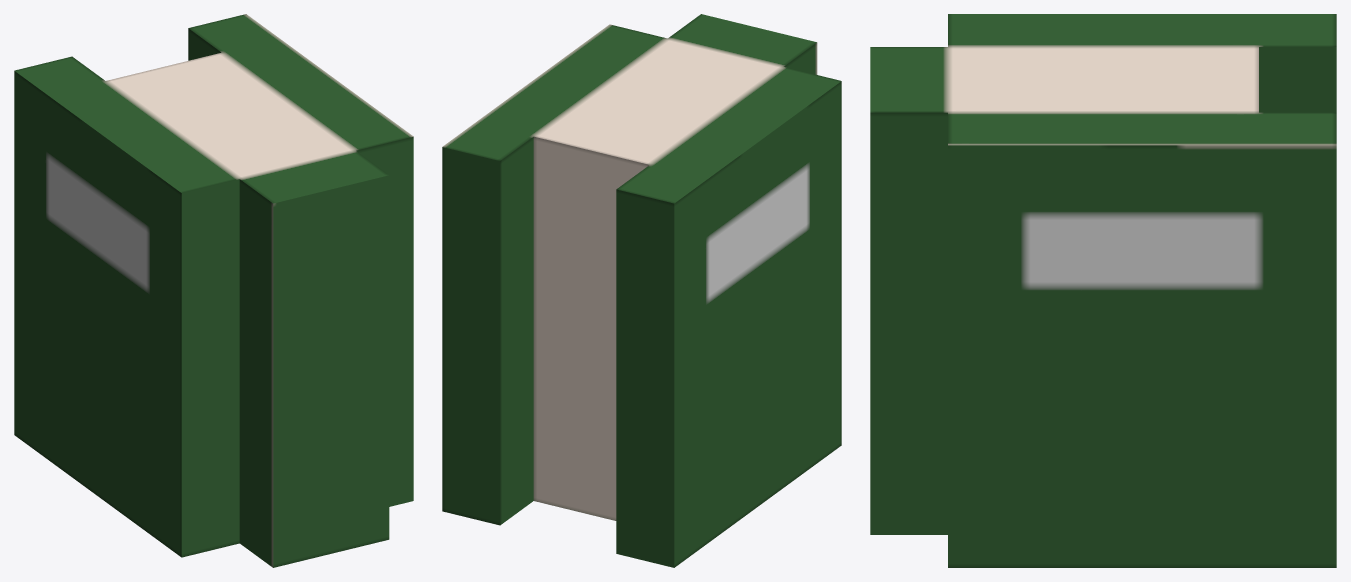
Rendered from GreenBook_7.fbx.
The picture shows the model from 3 angles, left to right: view 1: azimuth 30°, elevation 25°; view 2: azimuth 150°, elevation 25°; view 3: azimuth 270°, elevation 25°; orthographic projection. The views are drawn at different scales.
Visible parts, largest first — view 1: GreenBook_7.001; view 2: GreenBook_7.001; view 3: GreenBook_7.001.
Boxes of the visible parts, bbox=[...] form: GreenBook_7.001: bbox=[14, 14, 413, 567]; GreenBook_7.001: bbox=[442, 14, 841, 567]; GreenBook_7.001: bbox=[870, 14, 1336, 567].
Size of the model in its own units: 0.4 by 0.6 by 0.6.
1 material, 1 textured.
